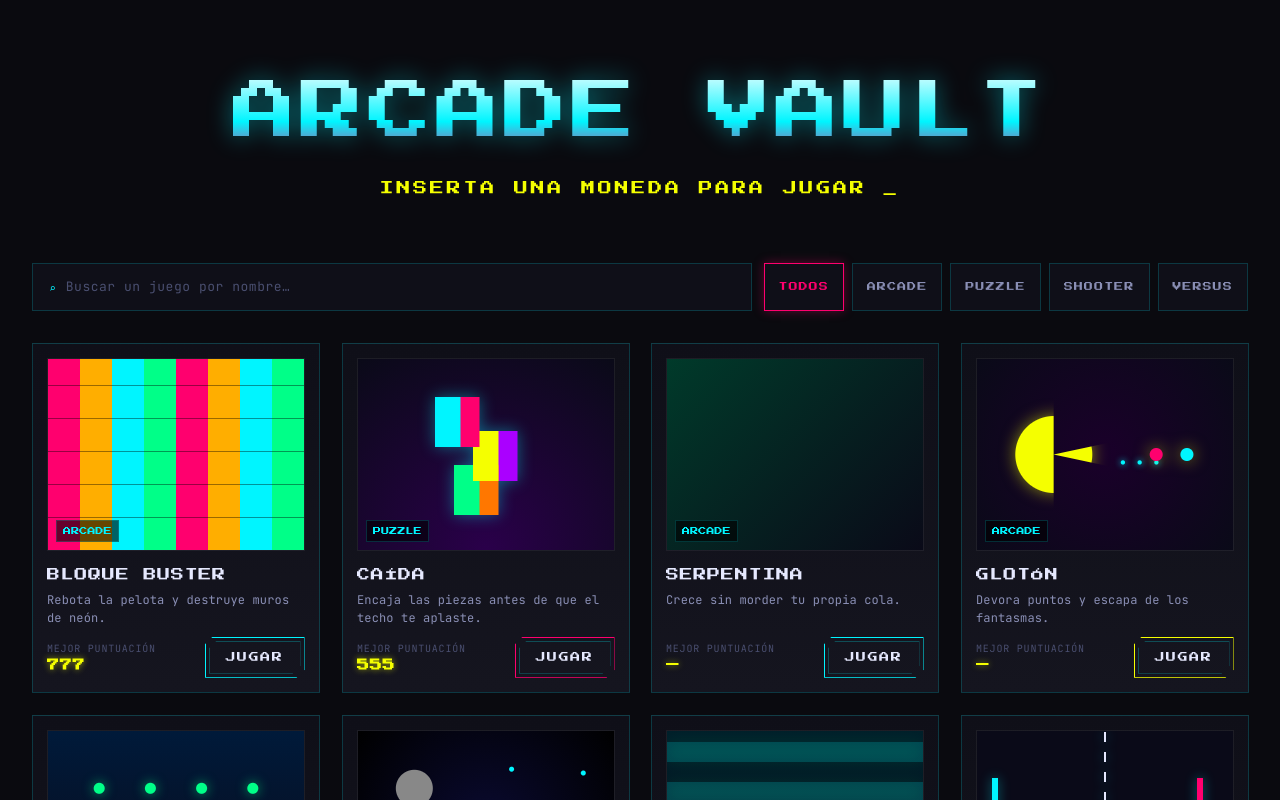
Test case: LibraryScreen › keeps each card's own score when the list is filtered
The image size is (1280, 800).
Step 1. Type "CAÍDA" into the field with placeholder "Buscar un juego por nombre…" → (400, 287), box x1=66 y1=277 x2=735 y2=297
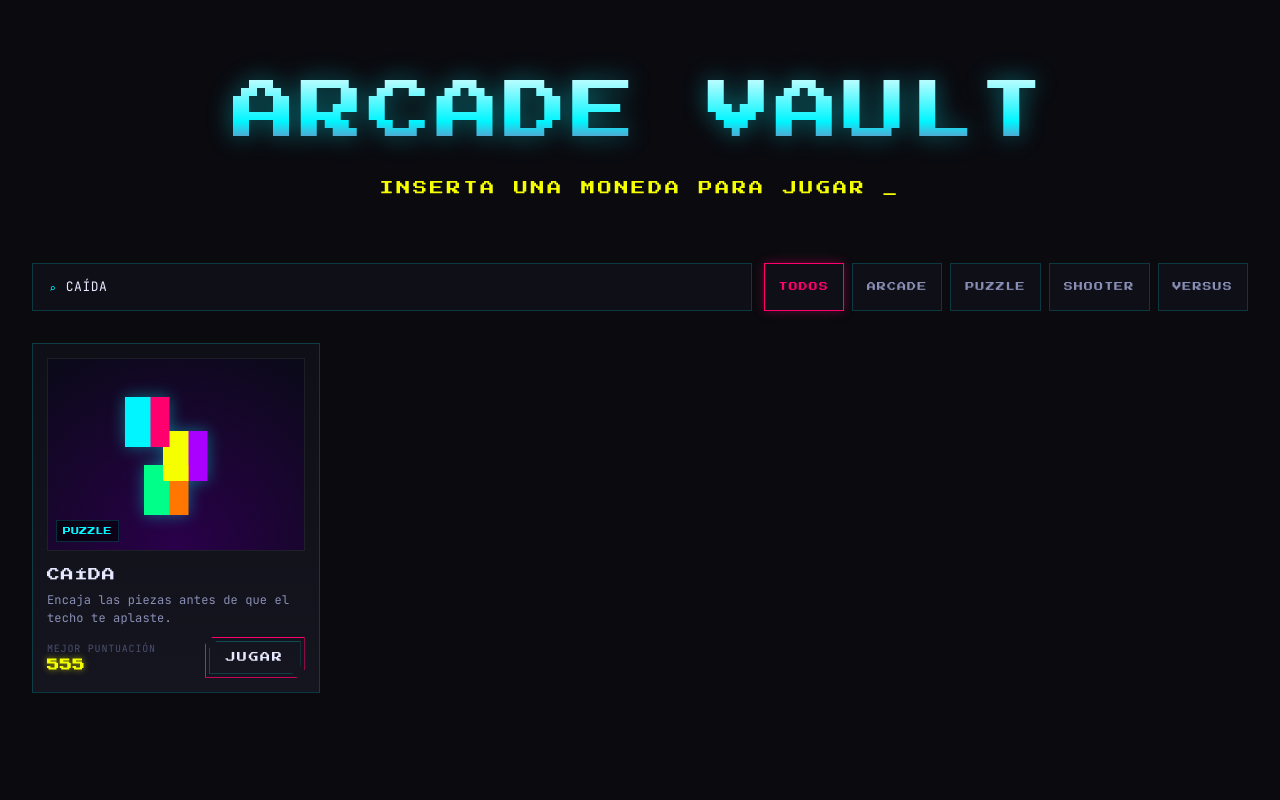
Expected: the text "555" is shown, x1=47 y1=659 x2=85 y2=671
Expected: the link "777" is gone
